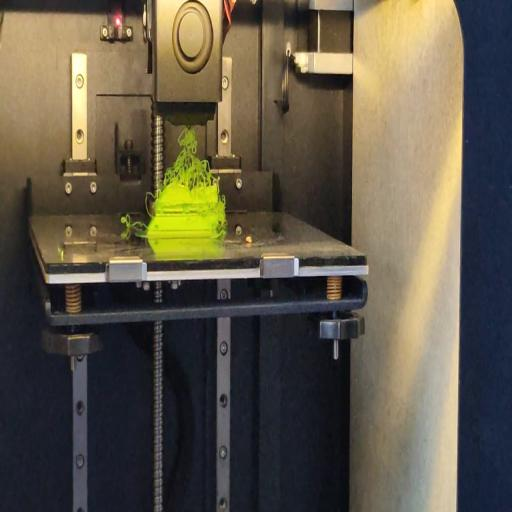spaghetti: (166, 126, 215, 188), (120, 215, 150, 236), (216, 194, 228, 235), (144, 187, 156, 220)
